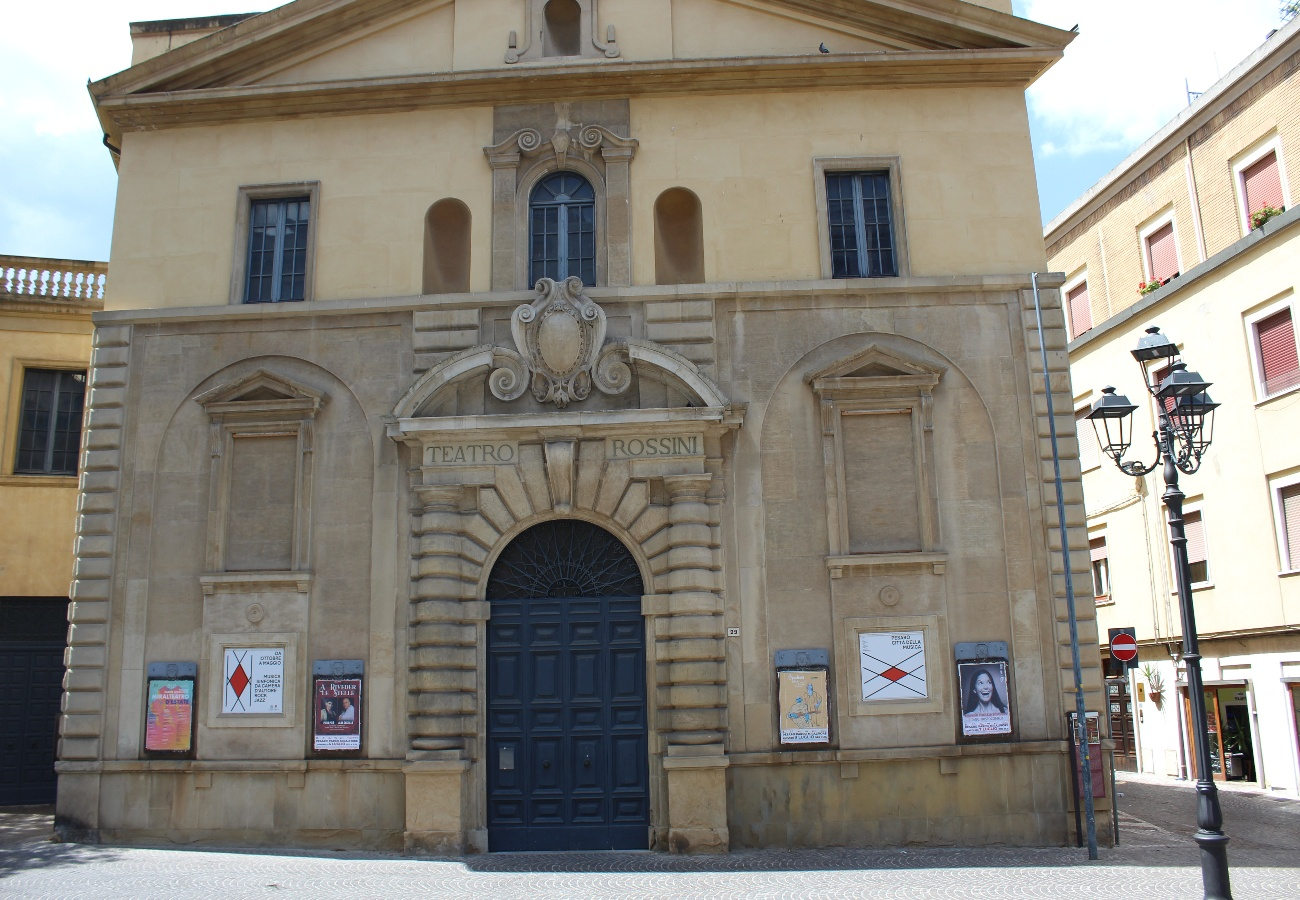Teatro Rossini: (59, 1, 1122, 854)
